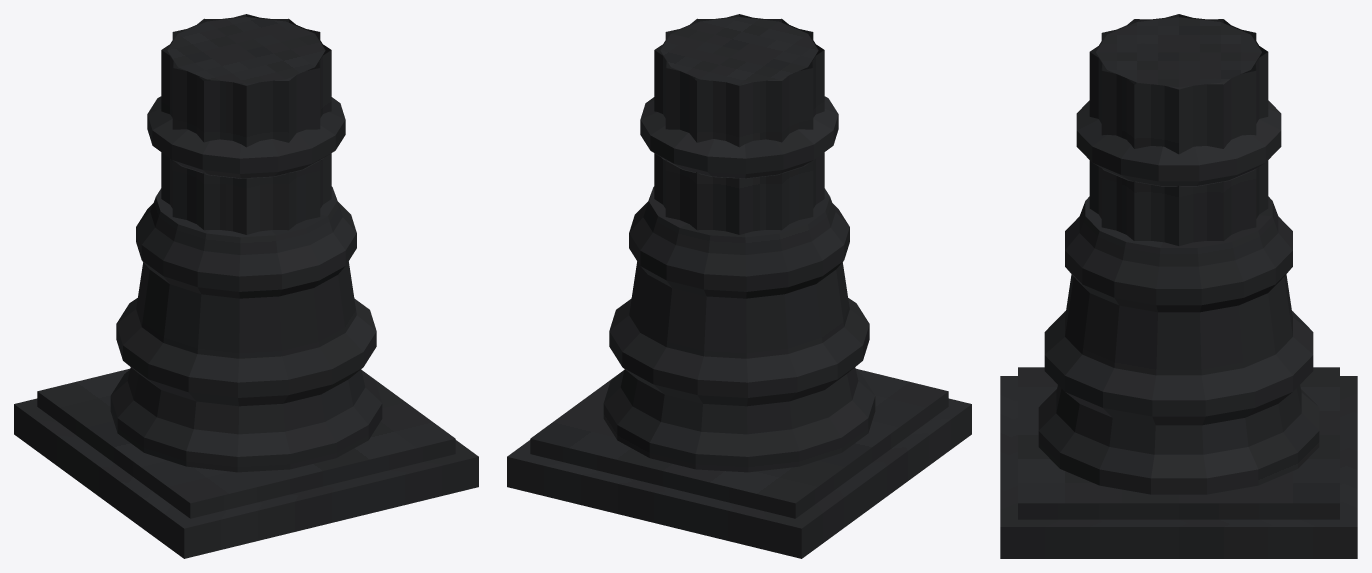
File: decopole_reprofluted_inv.obj
3 views of the same model, side by side, from view 1: azimuth 30°, elevation 25°; view 2: azimuth 150°, elevation 25°; view 3: azimuth 270°, elevation 25° (orthographic). The views are drawn at different scales.
Parts seen in each view (by area): view 1: decopole_reprofluted_inv; view 2: decopole_reprofluted_inv; view 3: decopole_reprofluted_inv.
Boxes of the visible parts, x1=… form: decopole_reprofluted_inv: x1=14, y1=14, x2=478, y2=558; decopole_reprofluted_inv: x1=507, y1=14, x2=971, y2=558; decopole_reprofluted_inv: x1=1000, y1=14, x2=1357, y2=558.
Bounding box in the file's own units: 0.75 × 1 × 0.75.
